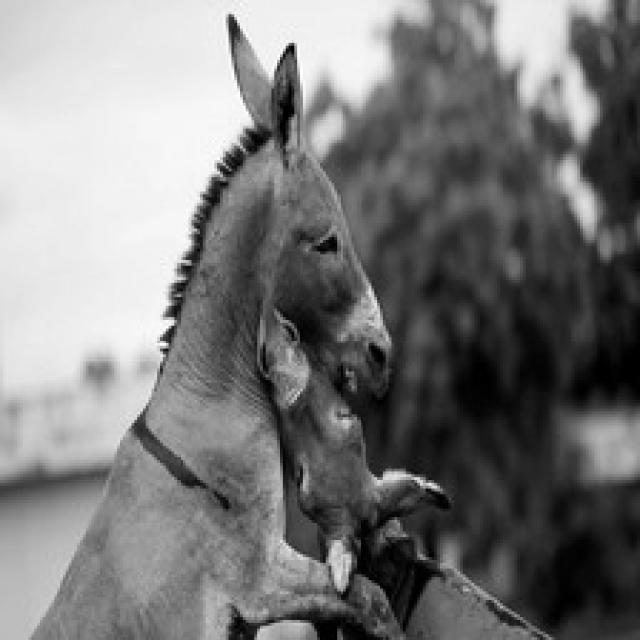Donkey: (0, 11, 451, 637), (254, 294, 637, 637)
